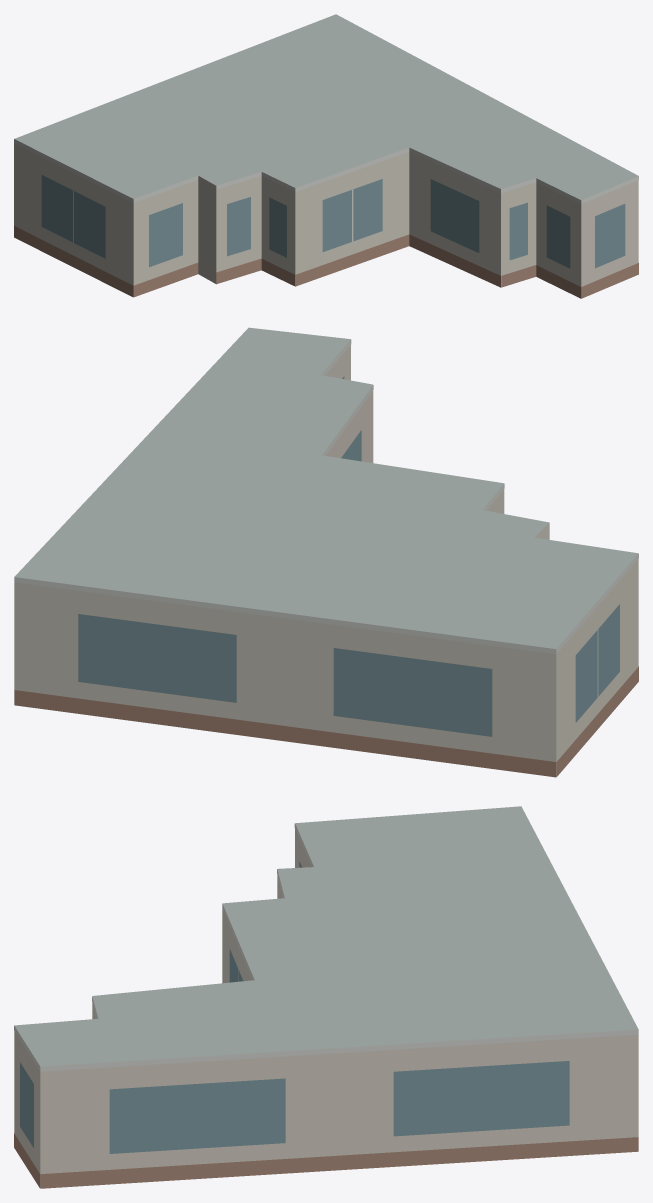
Rendered from survey-upis-32613771.glb.
3 renders of one model, top to bottom at view 1: azimuth 30°, elevation 25°; view 2: azimuth 150°, elevation 25°; view 3: azimuth 270°, elevation 25°, orthographic. The views are drawn at different scales.
Parts seen in each view (by area): view 1: survey-upis-32613771.tmp; view 2: survey-upis-32613771.tmp; view 3: survey-upis-32613771.tmp.
Boxes of the visible parts, x1=… form: survey-upis-32613771.tmp: x1=14, y1=14, x2=638, y2=298; survey-upis-32613771.tmp: x1=14, y1=327, x2=638, y2=777; survey-upis-32613771.tmp: x1=14, y1=806, x2=638, y2=1188.
Bounding box in the file's own units: 13.96 × 3.05 × 14.15.
